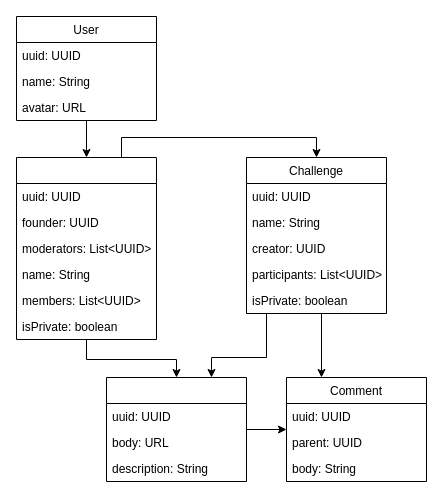
The diagram is 443 pixels wide and 498 high, and some of its shapes have lost their labels. Here are the shapes that lost their labels. From the top down, the box of each, then its label:
(16, 156, 156, 340): Group
(106, 376, 246, 482): Post
